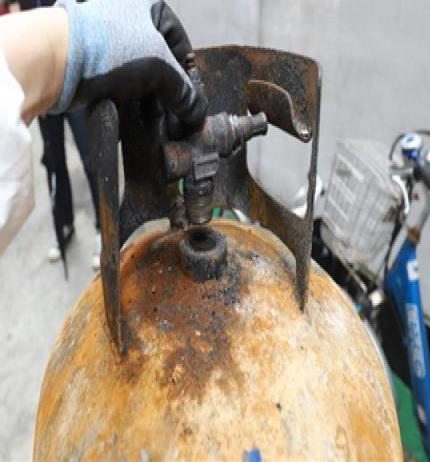cylinder: (1, 1, 430, 462)
